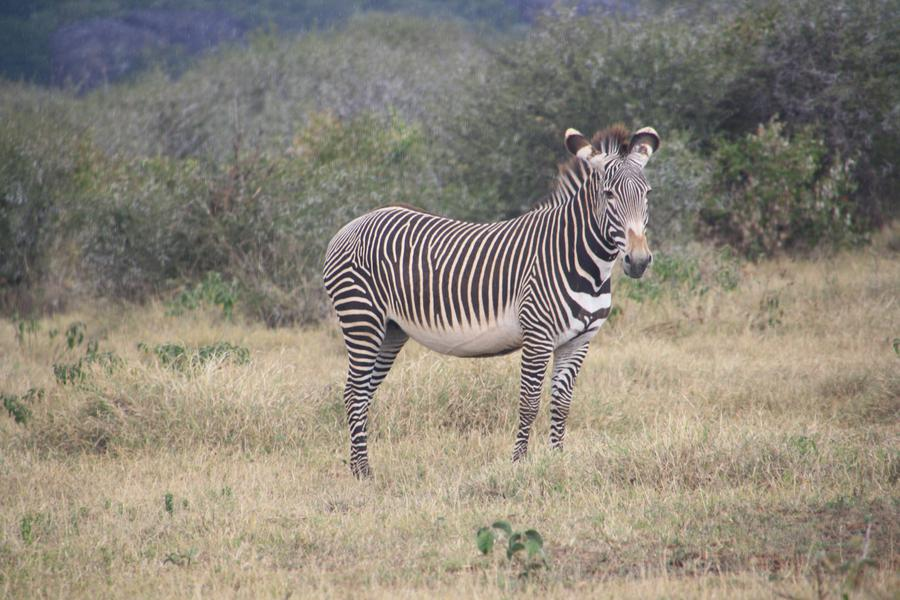zebra_grevys: (317, 191, 571, 338)
